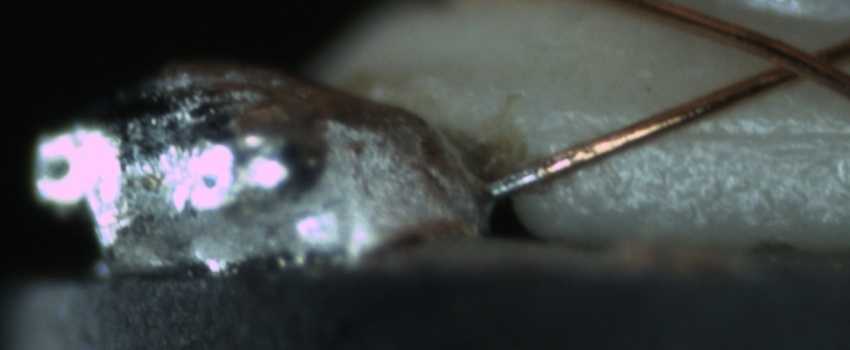CL: (753, 33, 846, 91)
DL: (622, 108, 846, 165)
TS: (483, 166, 540, 198)
